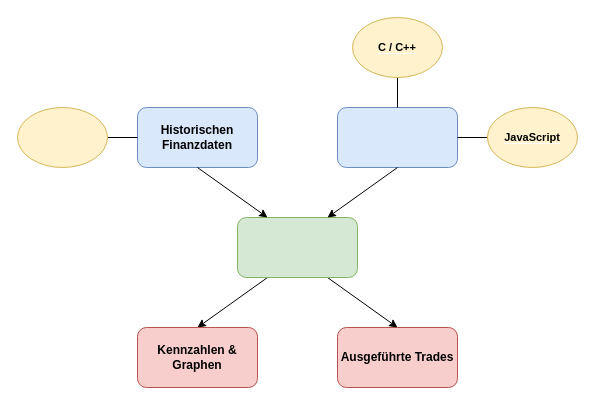
Some shapes in this 595 by 405 pixel diagram are drawn without their labels. Each missing label, with the box of its shape:
Backtester: (236, 216, 358, 278)
JSON: (16, 106, 108, 168)
Strategie: (336, 106, 458, 168)
